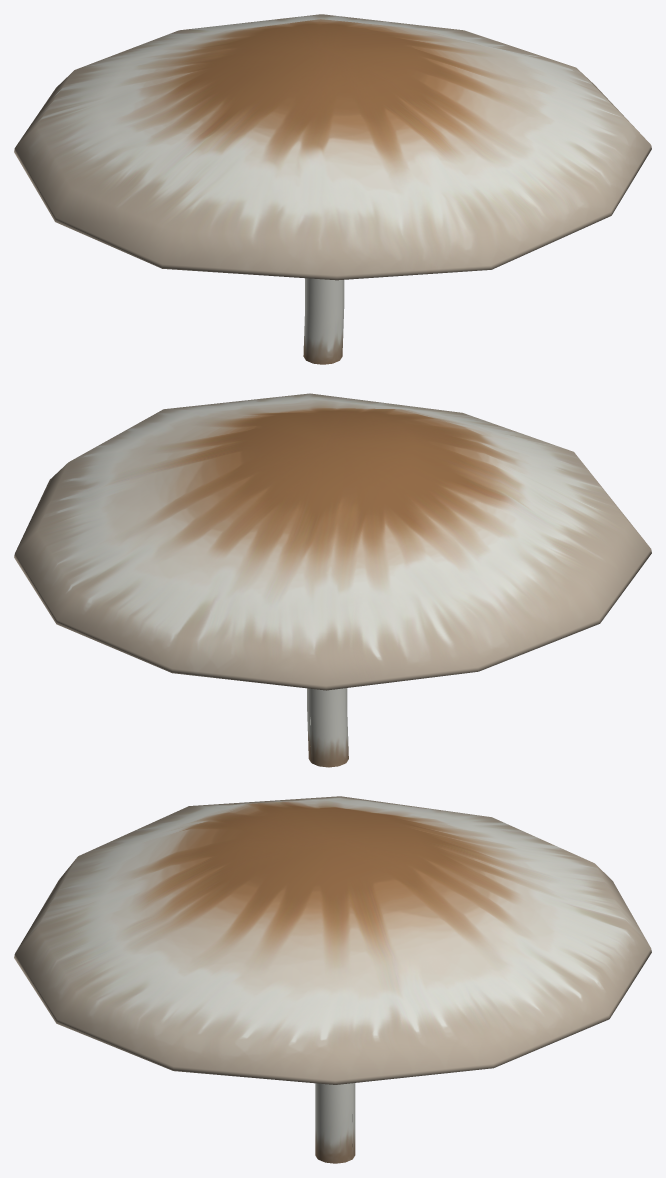
The model's file is Model_Fungus.fbx.
3 views of the same model, one above another, from view 1: azimuth 30°, elevation 25°; view 2: azimuth 150°, elevation 25°; view 3: azimuth 270°, elevation 25° (orthographic). The views are drawn at different scales.
Parts seen in each view (by area): view 1: Fungus; view 2: Fungus; view 3: Fungus.
Part boxes in pixels (bbox=[...]): Fungus: bbox=[14, 14, 651, 364]; Fungus: bbox=[14, 393, 651, 767]; Fungus: bbox=[14, 796, 651, 1163].
Size of the model in its own units: 5.09 by 2.77 by 5.08.
